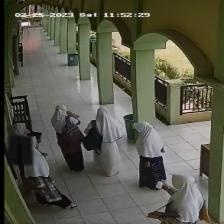Cadar_Niqab: (7, 121, 33, 164)
